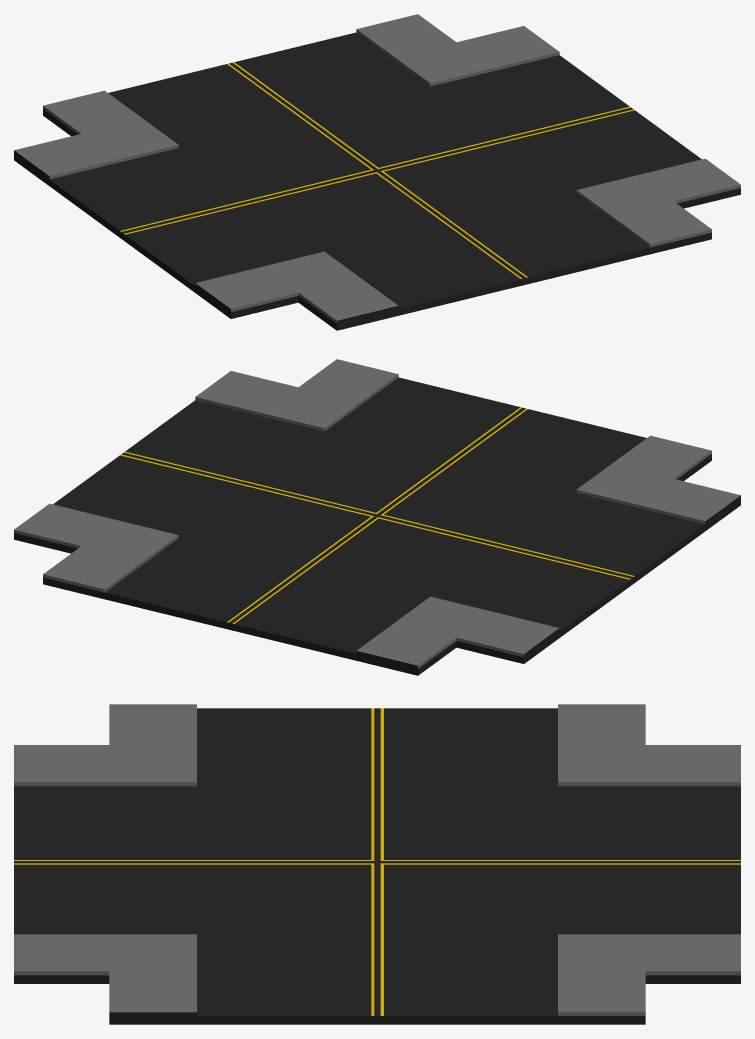
The model's file is Intersection.fbx.
3 renders of one model, top to bottom at view 1: azimuth 30°, elevation 25°; view 2: azimuth 150°, elevation 25°; view 3: azimuth 270°, elevation 25°, orthographic. The views are drawn at different scales.
Parts seen in each view (by area): view 1: intersection; view 2: intersection; view 3: intersection.
Part boxes in pixels (x1,y1,x2,y2): intersection: [14, 14, 740, 330]; intersection: [14, 359, 740, 675]; intersection: [14, 704, 740, 1024].
Bounding box in the file's own units: 828 × 15.6 × 826.
